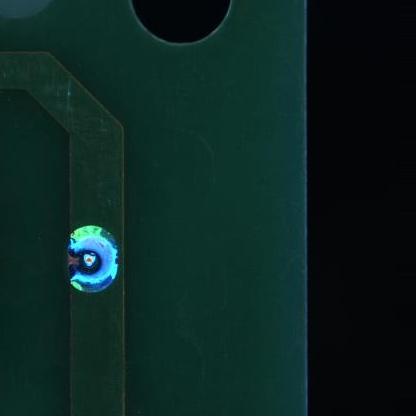spot: (66, 223, 121, 295)
